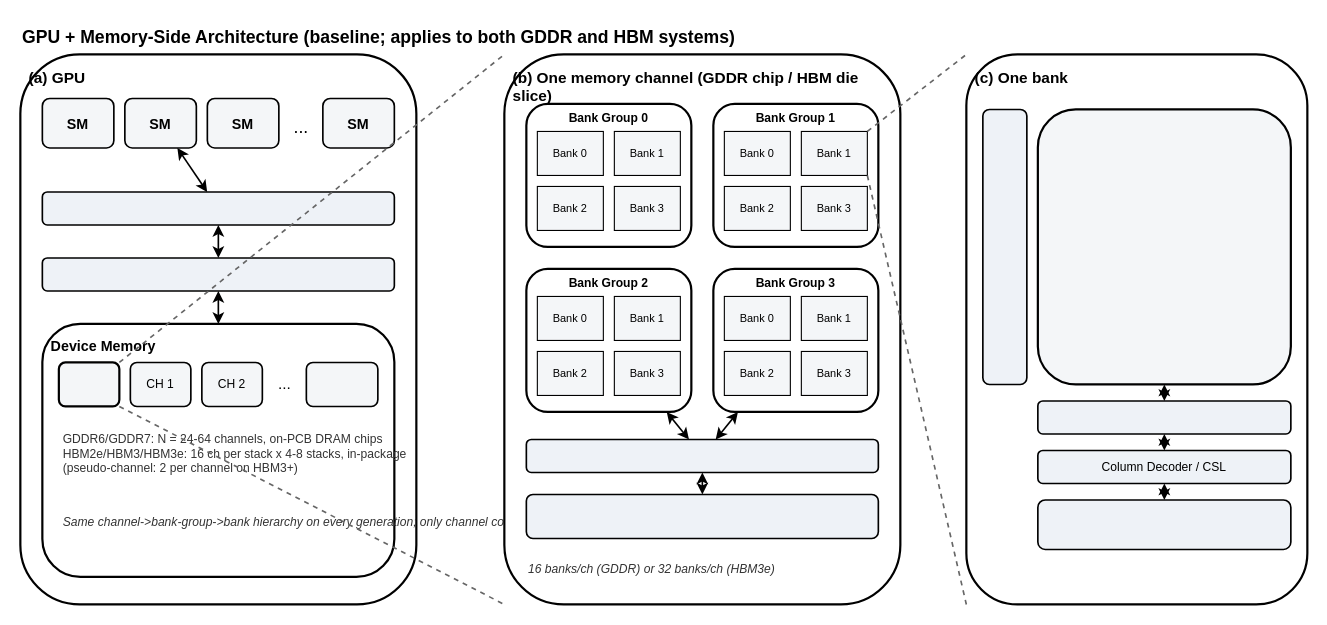
This 1327x625 diagram has some shape labels left out. The shapes that lost their labels are listed below. From the top down, each one's centre as x and y in pixels, then its label:
point 218,208: Interconnect / NoC
point 1004,246: Row Decoder
point 1163,246: DRAM cell array (row = 1-2 KB page)
point 218,274: L2 Cache + Memory Controllers
point 88,384: CH 0
point 341,384: CH N-1
point 1164,417: Sense Amps / Row Buffer
point 702,455: Global Bus (GBUS) + I/O sense amplifiers
point 702,516: Channel I/O: GDDR = PCB trace to MC; HBM = TSV + interposer to MC
point 1164,524: Column I/O: 256 b (= 32 B) per access, to bank-group local bus
